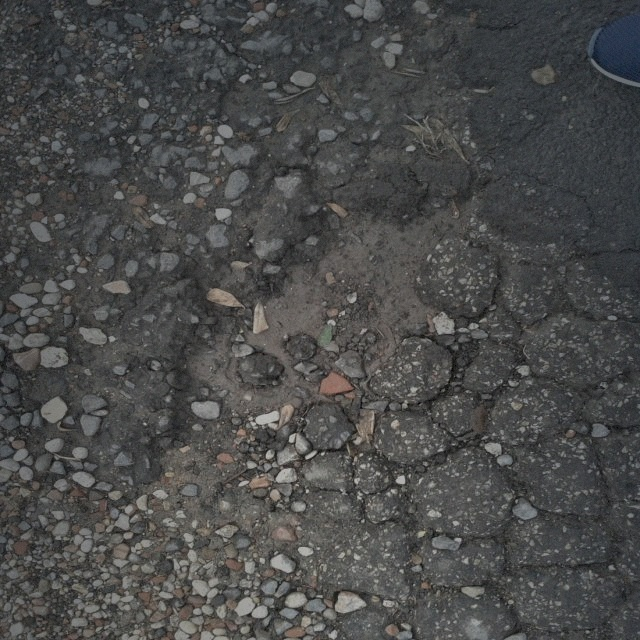pothole: (167, 168, 478, 452)
